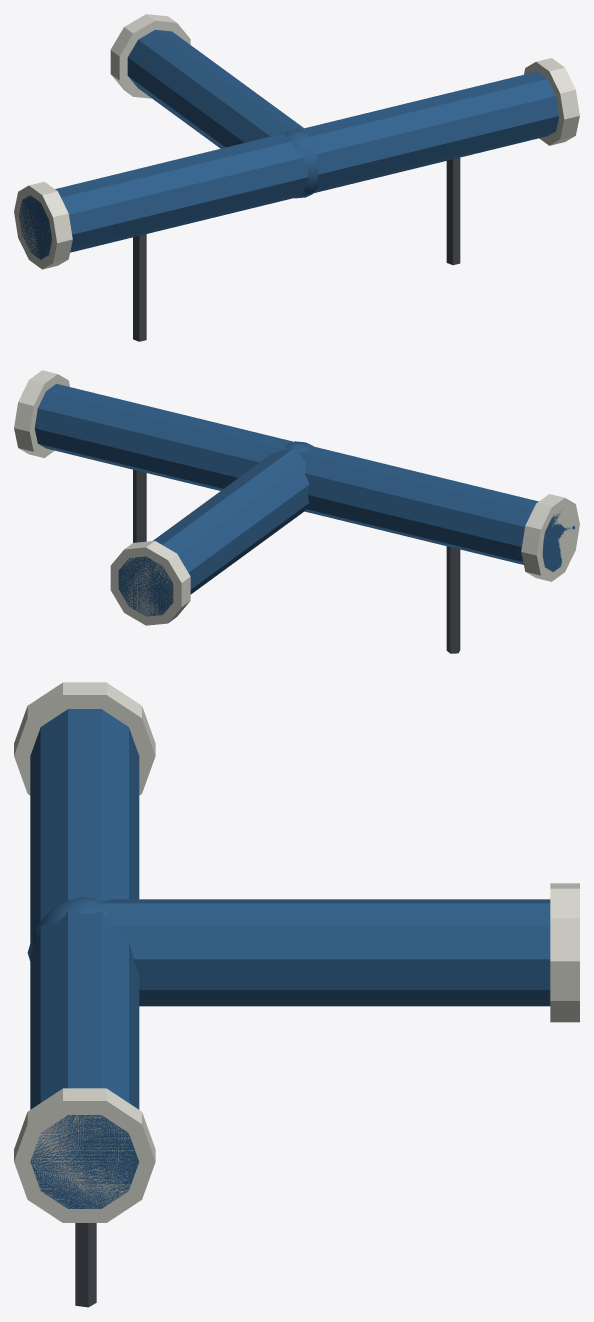
Rendered from PipeL_Tee.fbx.
3 views of the same model, one above another, from view 1: azimuth 30°, elevation 25°; view 2: azimuth 150°, elevation 25°; view 3: azimuth 270°, elevation 25° (orthographic). The views are drawn at different scales.
Parts seen in each view (by area): view 1: PipeL_Tee_Body; view 2: PipeL_Tee_Body; view 3: PipeL_Tee_Body.
Boxes of the visible parts, x1=… form: PipeL_Tee_Body: x1=14, y1=14, x2=579, y2=341; PipeL_Tee_Body: x1=14, y1=370, x2=579, y2=653; PipeL_Tee_Body: x1=14, y1=682, x2=579, y2=1307.
Size of the model in its own units: 1 by 0.3215 by 0.5715.
